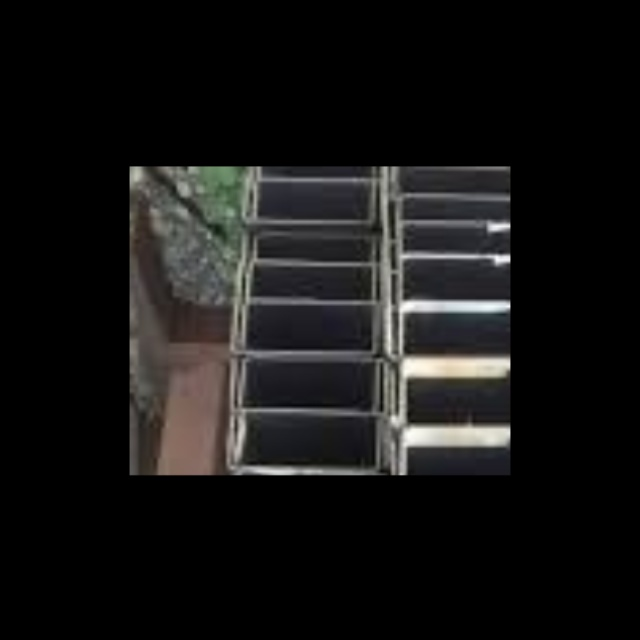Shveller: (240, 415, 385, 467), (230, 420, 379, 470), (233, 360, 376, 412), (242, 361, 385, 408), (233, 306, 376, 351), (400, 364, 510, 421), (244, 304, 381, 348), (405, 371, 510, 425), (386, 310, 510, 353), (401, 307, 510, 354), (403, 431, 510, 475), (245, 184, 370, 220), (392, 263, 510, 301), (241, 268, 375, 301), (247, 264, 382, 296), (402, 258, 510, 297), (256, 184, 375, 218), (393, 443, 510, 475), (242, 236, 375, 263), (404, 223, 510, 252), (255, 235, 381, 258), (400, 227, 510, 253), (396, 169, 510, 192)
